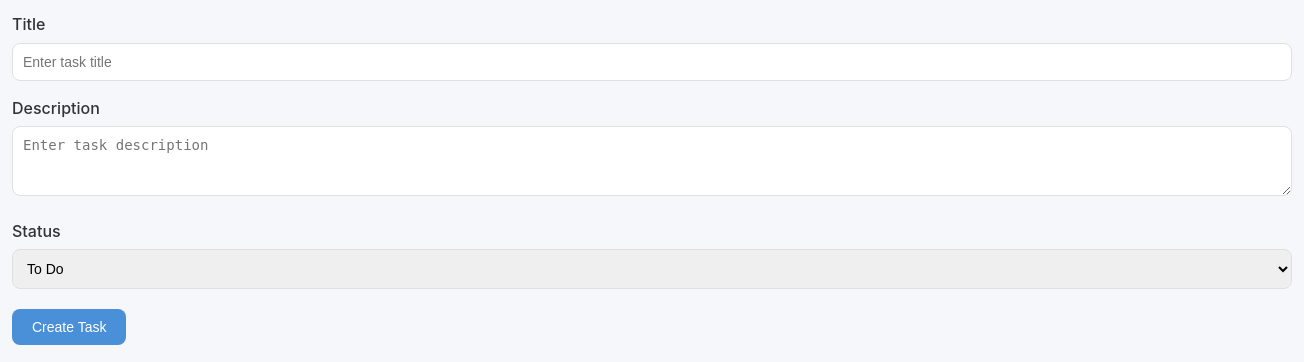
TaskForm › should show loading state while submitting
This screenshot has width=1304, height=362.
Type "New Task" into the field labelled "Title" at (652, 62), box top-left (12, 43), bottom-right (1292, 81)
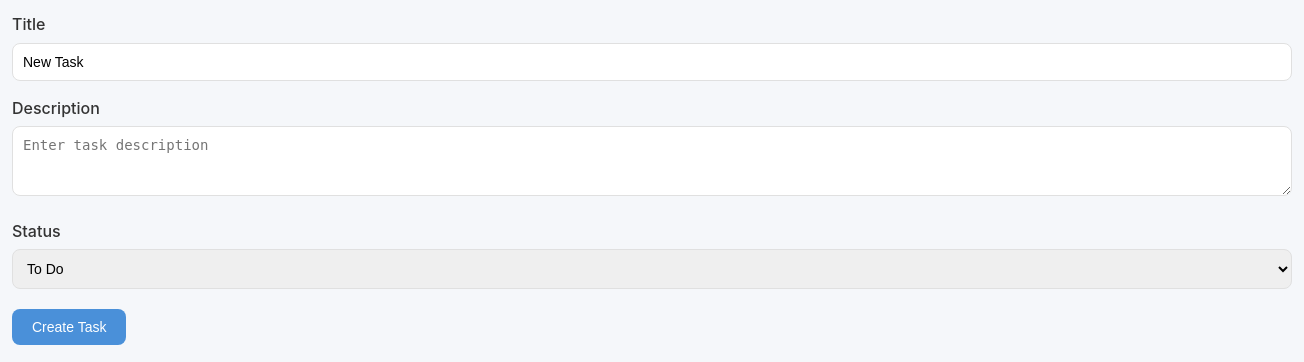
Click the button "Create Task" at (69, 327), box top-left (12, 309), bottom-right (126, 345)
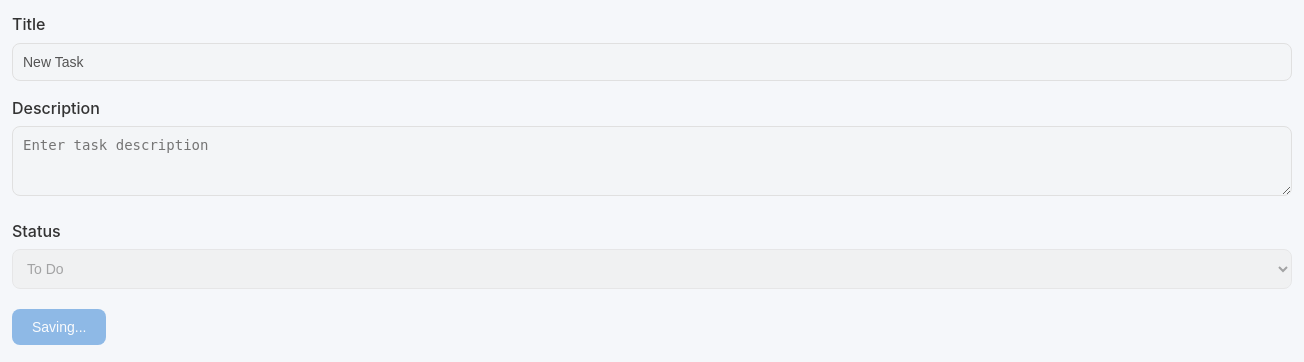
Now the button "Saving..." is shown, box top-left (12, 309), bottom-right (106, 345)
Now the field labelled "Title" is disabled, box top-left (12, 43), bottom-right (1292, 81)
